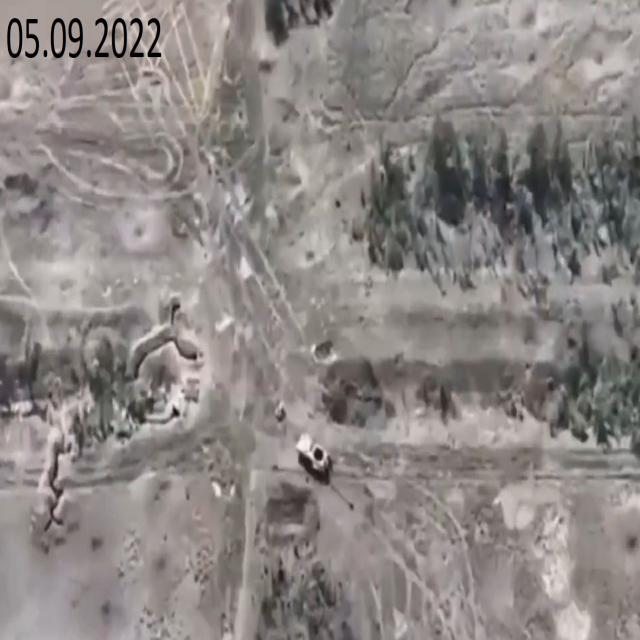apc: (296, 432, 332, 480)
